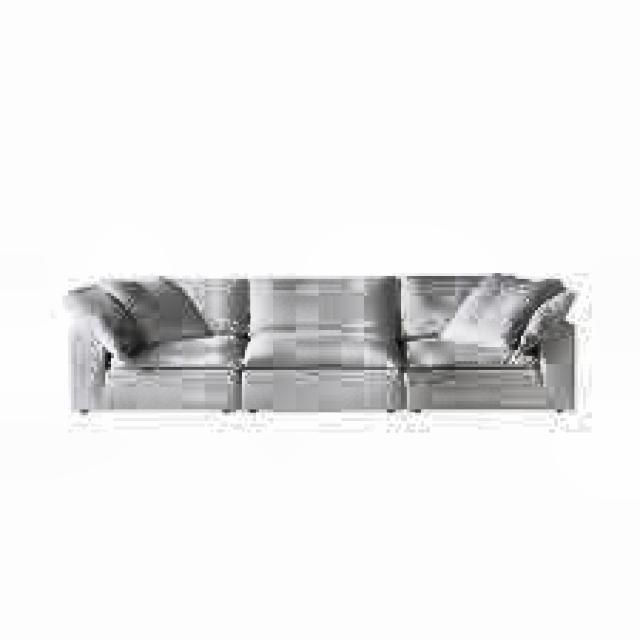sofa: (68, 264, 578, 430)
